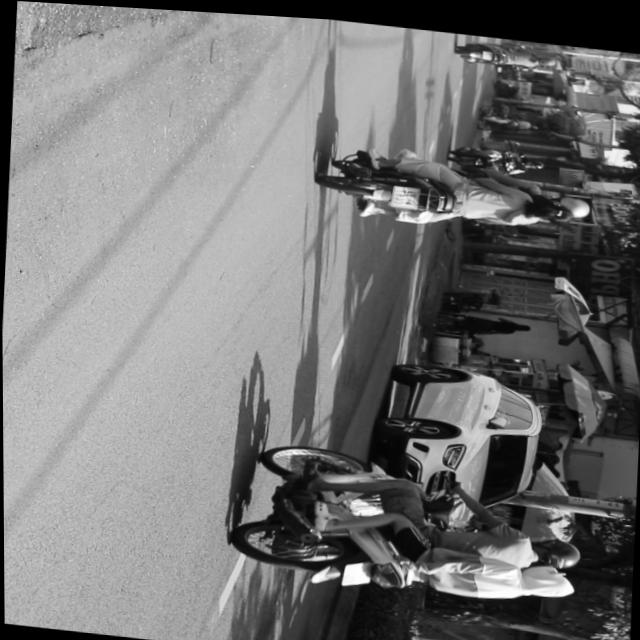helmet: (518, 559, 576, 597), (527, 529, 582, 567), (552, 188, 591, 214)
licenseplate: (225, 433, 587, 610), (316, 138, 593, 240)
motorcyclist: (529, 193, 573, 219)
nohelmet: (343, 557, 368, 585), (391, 181, 419, 203)
